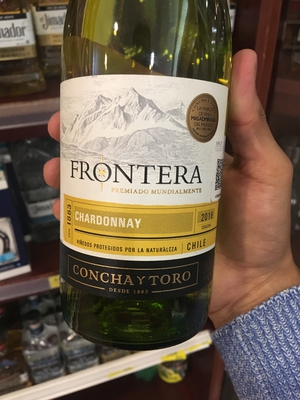frontera chardonnay: (49, 1, 235, 320)
